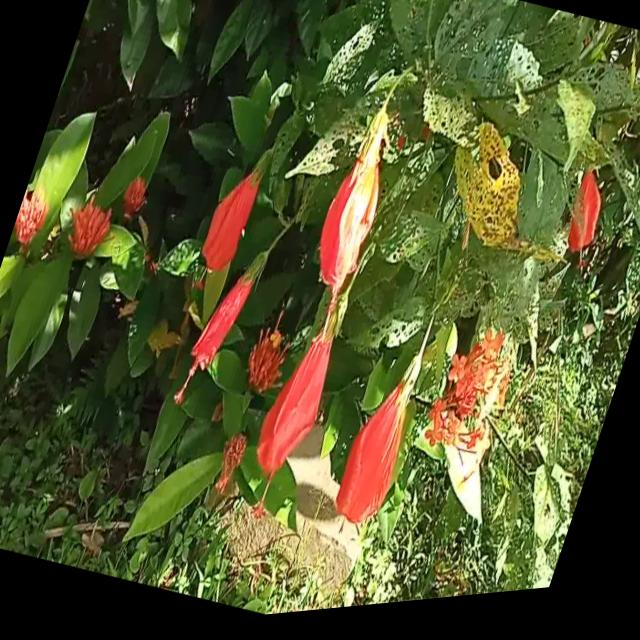Flower: (230, 305, 355, 535), (316, 340, 439, 556), (297, 111, 414, 322), (169, 246, 271, 423), (186, 139, 272, 304), (548, 167, 623, 294)
